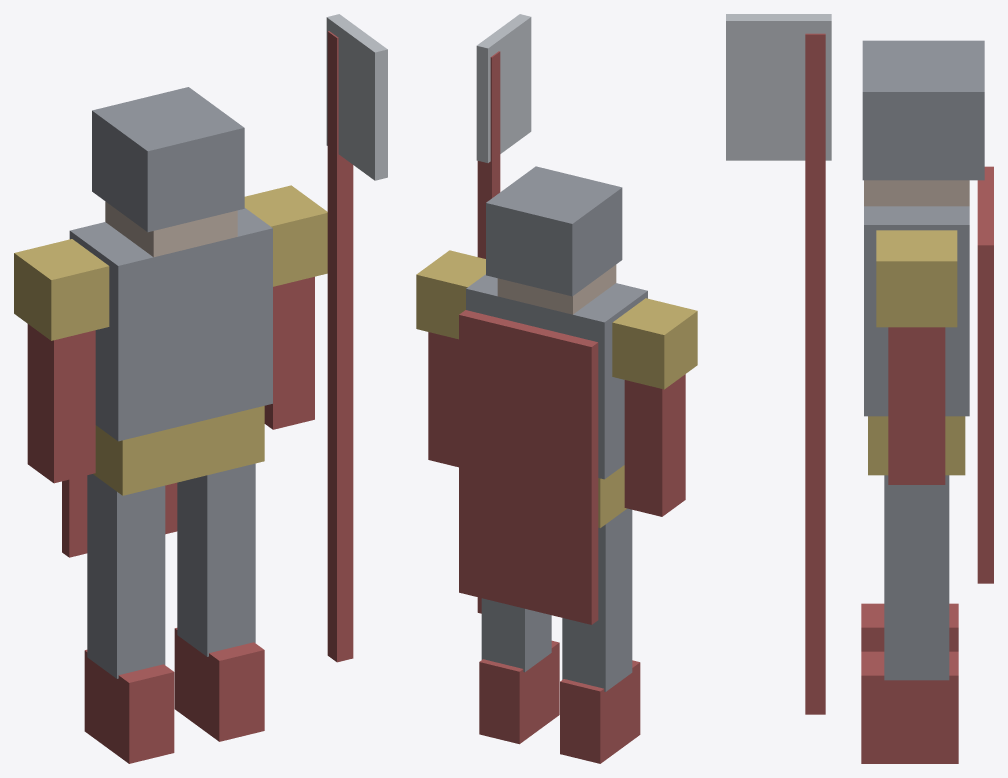
Rendered from barbican_captain.glb.
The picture shows the model from 3 angles, left to right: view 1: azimuth 30°, elevation 25°; view 2: azimuth 150°, elevation 25°; view 3: azimuth 270°, elevation 25°; orthographic projection. The views are drawn at different scales.
Visible parts, largest first — view 1: barbican_captain; view 2: barbican_captain; view 3: barbican_captain.
Boxes of the visible parts, x1,y1,x2,y2 form: barbican_captain: [14, 14, 387, 763]; barbican_captain: [416, 14, 697, 763]; barbican_captain: [726, 14, 993, 763].
Size of the model in its own units: 1.01 by 2.49 by 0.7788.
